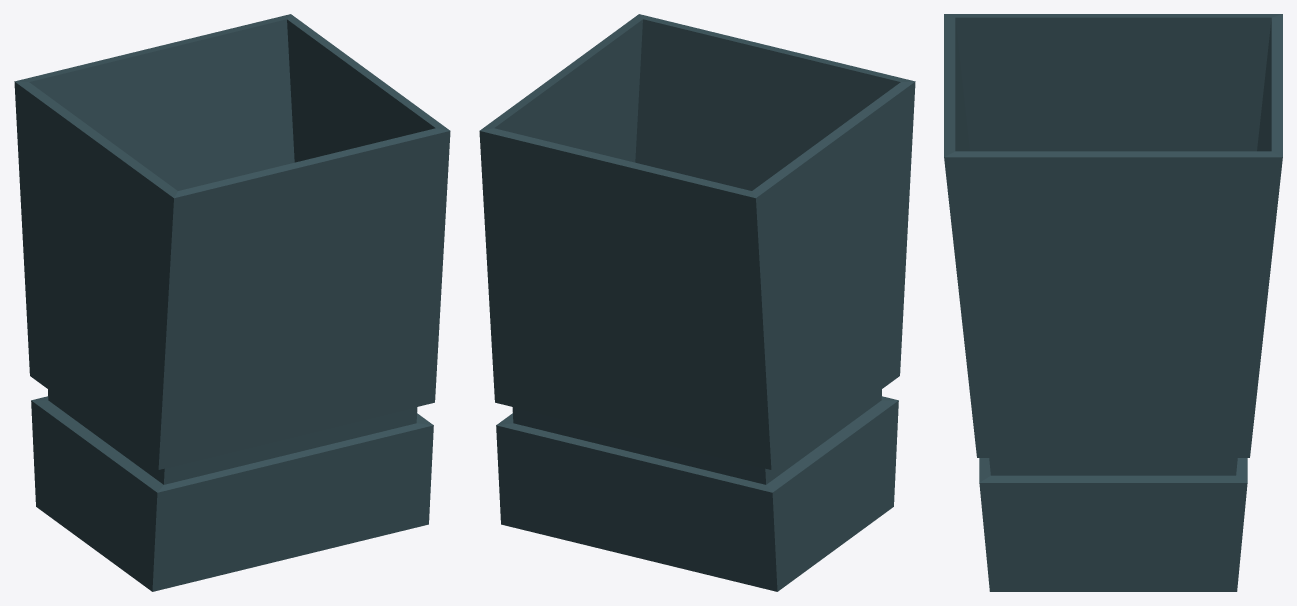
The model's file is glass3.fbx.
3 views of the same model, side by side, from view 1: azimuth 30°, elevation 25°; view 2: azimuth 150°, elevation 25°; view 3: azimuth 270°, elevation 25° (orthographic). The views are drawn at different scales.
Parts seen in each view (by area): view 1: glass3.008; view 2: glass3.008; view 3: glass3.008.
Part boxes in pixels (x1,y1,x2,y2): glass3.008: (14, 14, 450, 591); glass3.008: (479, 14, 915, 591); glass3.008: (944, 14, 1282, 591).
Bounding box in the file's own units: 0.0148 × 0.0211 × 0.0148.
